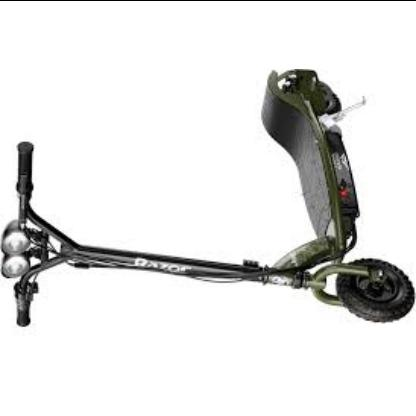bike: (11, 68, 416, 325)
